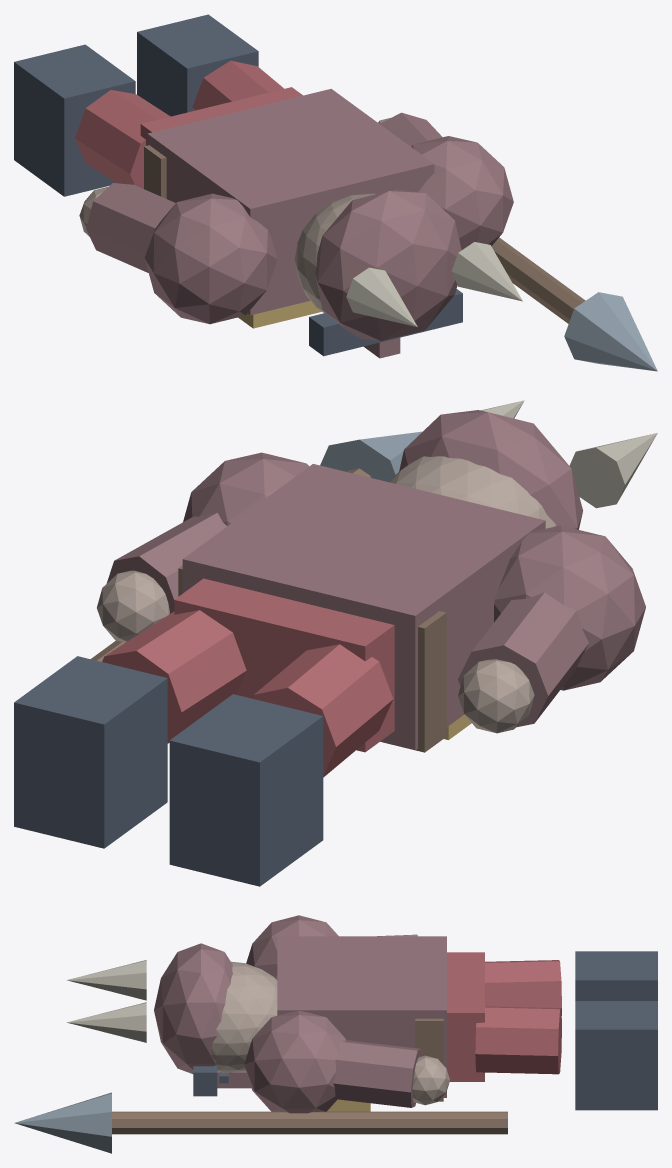
File: 04_charging_lancer.glb
The picture shows the model from 3 angles, top to bottom: view 1: azimuth 30°, elevation 25°; view 2: azimuth 150°, elevation 25°; view 3: azimuth 270°, elevation 25°; orthographic projection. The views are drawn at different scales.
Parts seen in each view (by area): view 1: torso, helmet, shoulder-1, boot-1, boot1, shoulder1, upper_leg-1, arm-1, spear_head, spear_shaft, upper_leg1, helmet_rim (+7 smaller); view 2: torso, boot-1, boot1, shoulder-1, hips, helmet, upper_leg1, upper_leg-1, arm-1, head, shoulder1, hand-1 (+5 smaller); view 3: torso, spear_shaft, boot1, shoulder1, helmet, upper_leg1, arm1, head, hips, boot-1, upper_leg-1, spear_head (+8 smaller).
Boxes of the visible parts, left/top/right/bottom form: torso: left=147, top=88, right=434, bottom=315; helmet: left=315, top=189, right=461, bottom=340; shoulder-1: left=144, top=193, right=277, bottom=324; boot-1: left=14, top=44, right=135, bottom=196; boot1: left=137, top=14, right=258, bottom=116; shoulder1: left=411, top=136, right=513, bottom=249; upper_leg-1: left=75, top=90, right=170, bottom=188; arm-1: left=86, top=183, right=175, bottom=272; spear_head: left=564, top=292, right=657, bottom=371; spear_shaft: left=491, top=237, right=585, bottom=323; upper_leg1: left=192, top=60, right=284, bottom=110; helmet_rim: left=309, top=289, right=462, bottom=356; torso: left=182, top=464, right=545, bottom=750; boot-1: left=169, top=694, right=323, bottom=886; boot1: left=14, top=656, right=167, bottom=848; shoulder-1: left=494, top=525, right=645, bottom=690; hips: left=174, top=578, right=394, bottom=752; helmet: left=399, top=410, right=583, bottom=529; upper_leg1: left=102, top=610, right=246, bottom=743; upper_leg-1: left=252, top=644, right=393, bottom=777; arm-1: left=457, top=592, right=588, bottom=727; head: left=389, top=456, right=556, bottom=528; shoulder1: left=183, top=452, right=308, bottom=526; hand-1: left=458, top=659, right=534, bottom=733; torso: left=277, top=936, right=446, bottom=1097; spear_shaft: left=112, top=1111, right=507, bottom=1134; boot1: left=575, top=1001, right=657, bottom=1110; shoulder1: left=244, top=1011, right=346, bottom=1113; helmet: left=154, top=943, right=232, bottom=1073; upper_leg1: left=475, top=1006, right=561, bottom=1074; arm1: left=333, top=1040, right=421, bottom=1107; head: left=211, top=961, right=277, bottom=1072; hips: left=447, top=952, right=484, bottom=1081; boot-1: left=575, top=951, right=657, bottom=1000; upper_leg-1: left=485, top=960, right=561, bottom=1015; spear_head: left=14, top=1092, right=111, bottom=1153.
Bounding box in the file's own units: 1.6 × 0.715 × 2.96.
